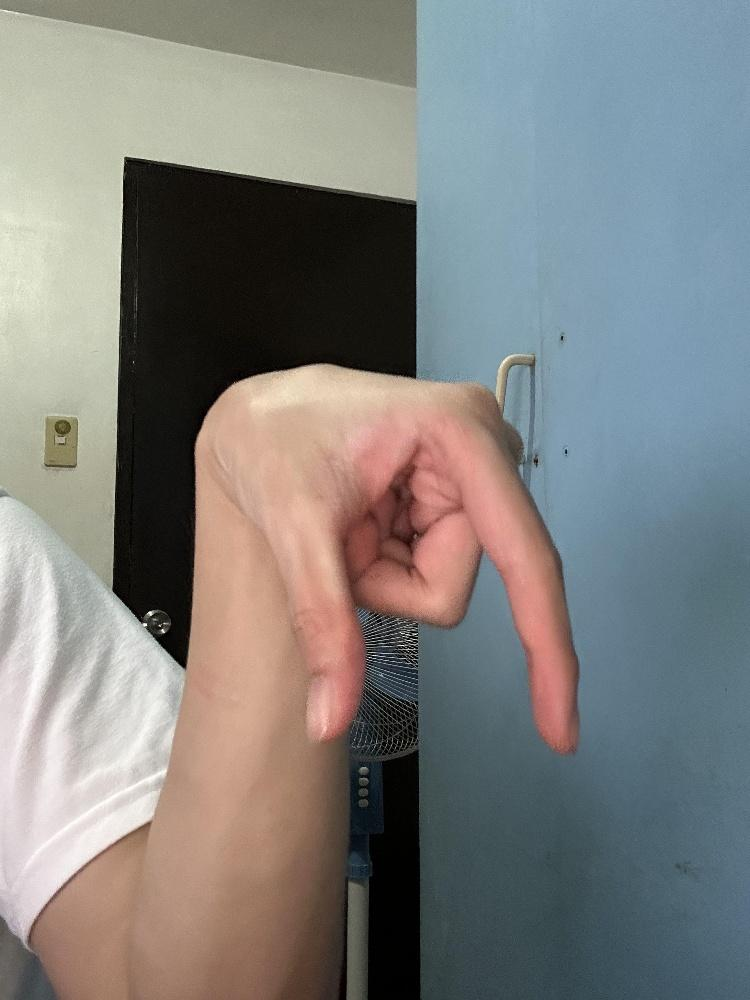q: (193, 357, 585, 761)
